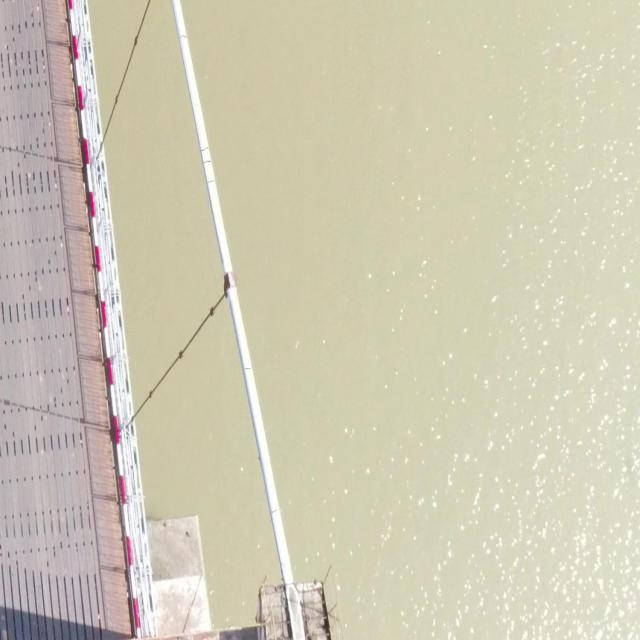crack: (201, 146, 209, 152), (244, 366, 252, 371), (207, 179, 214, 184), (180, 34, 187, 39), (203, 160, 211, 164), (270, 509, 277, 513)
